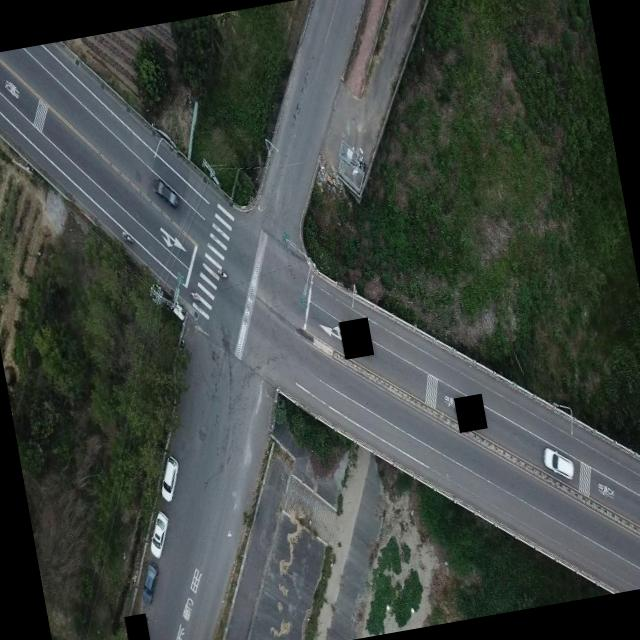bike: (121, 229, 132, 244)
car: (144, 508, 174, 558), (154, 452, 183, 502), (541, 443, 575, 484), (136, 559, 163, 605), (150, 174, 178, 210)
